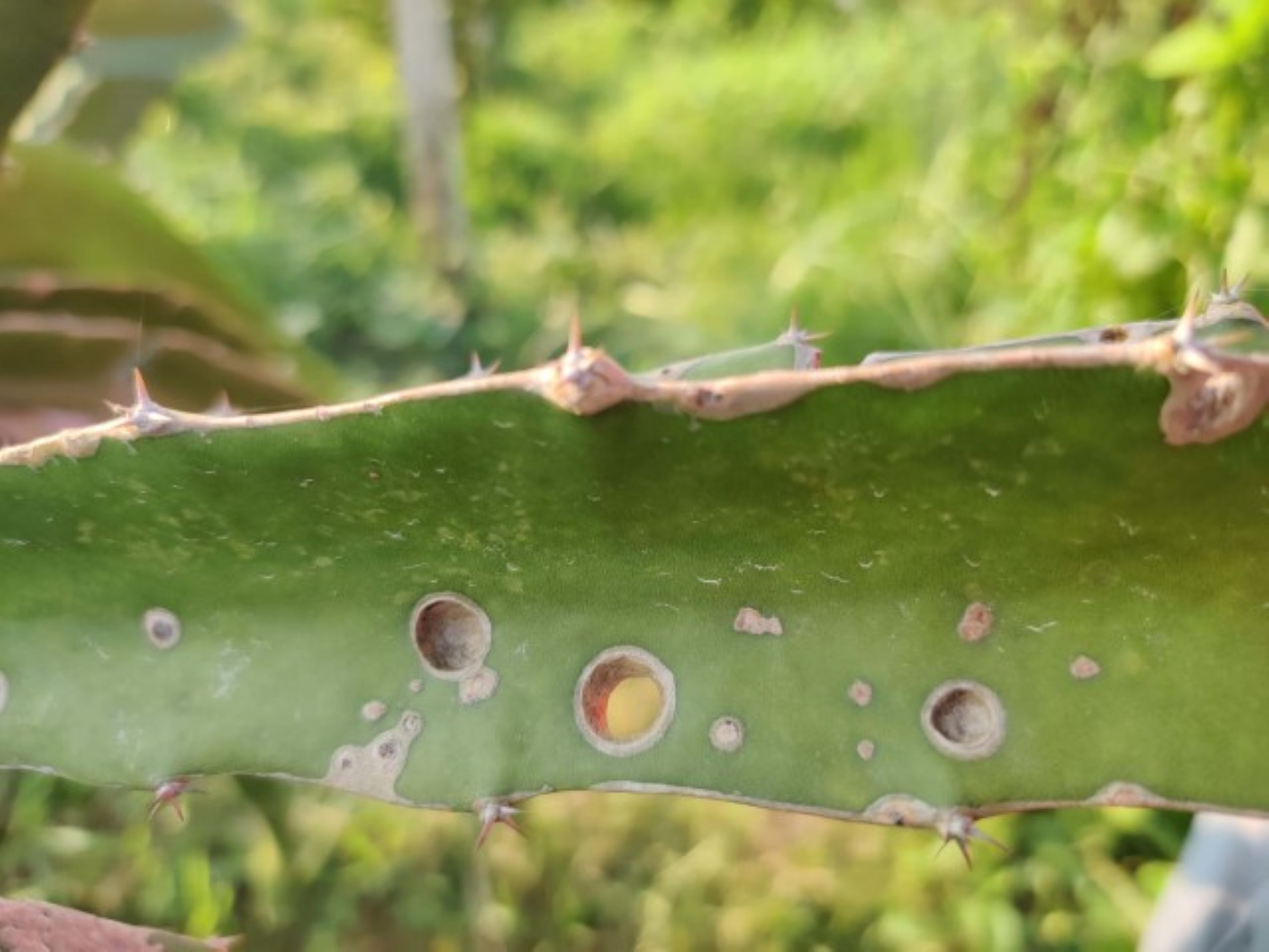stemcanker: (568, 642, 681, 759), (407, 588, 499, 679), (921, 678, 1011, 757), (1075, 323, 1155, 349), (798, 347, 879, 372)
